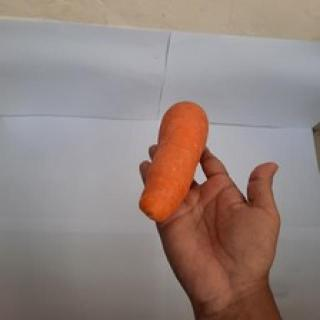carrot: (138, 101, 208, 223)
